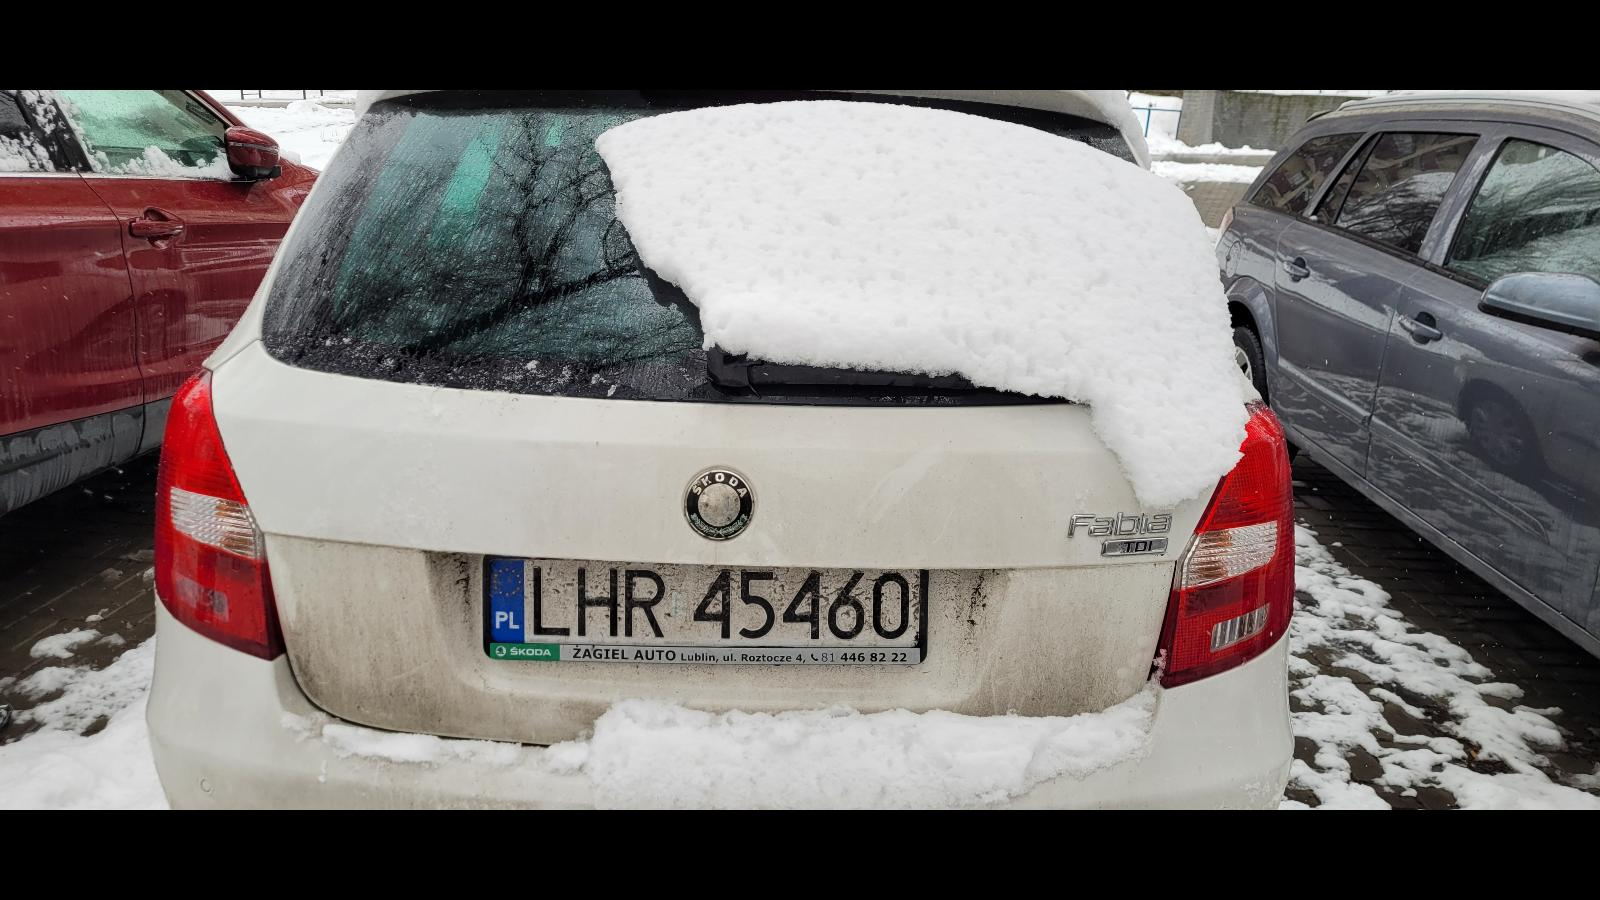plates: (483, 555, 928, 665)
